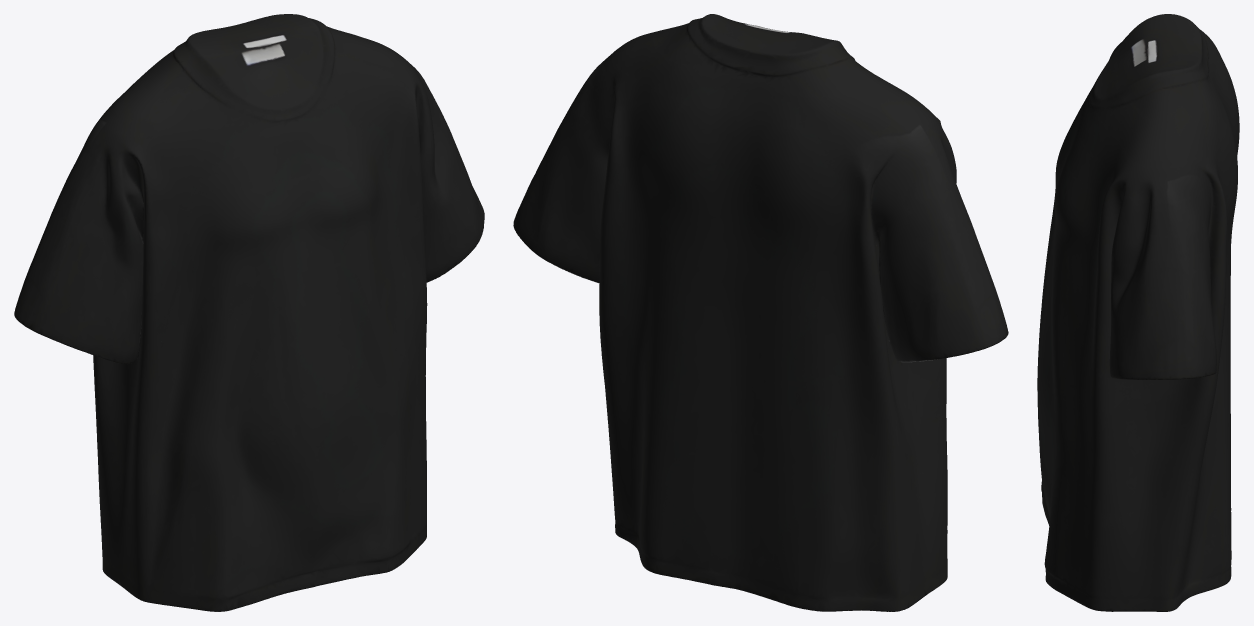
File: zara-basic-heavyweight-t-shirt-03-545422590.glb
The picture shows the model from 3 angles, left to right: view 1: azimuth 30°, elevation 25°; view 2: azimuth 150°, elevation 25°; view 3: azimuth 270°, elevation 25°; orthographic projection. The views are drawn at different scales.
Visible parts, largest first — view 1: tripo_node_84b1d4a9-bb07-4f84-8b36-0697f3e7aa8e; view 2: tripo_node_84b1d4a9-bb07-4f84-8b36-0697f3e7aa8e; view 3: tripo_node_84b1d4a9-bb07-4f84-8b36-0697f3e7aa8e.
Part boxes in pixels (x1,y1,x2,y2): tripo_node_84b1d4a9-bb07-4f84-8b36-0697f3e7aa8e: (14, 14, 484, 611); tripo_node_84b1d4a9-bb07-4f84-8b36-0697f3e7aa8e: (513, 14, 1008, 611); tripo_node_84b1d4a9-bb07-4f84-8b36-0697f3e7aa8e: (1037, 14, 1239, 611).
Size of the model in its own units: 0.932 by 1 by 0.3632.
1 material, 1 textured.
